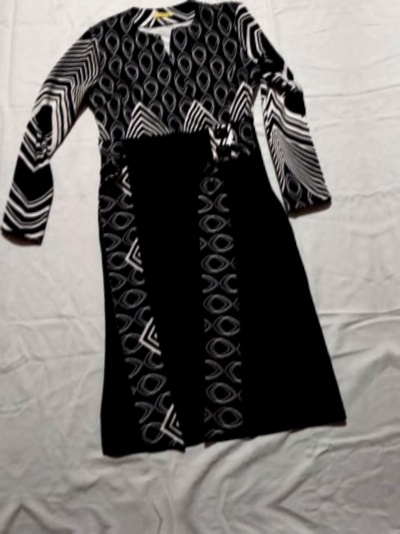Dress: (0, 0, 376, 490), (362, 0, 400, 441)
